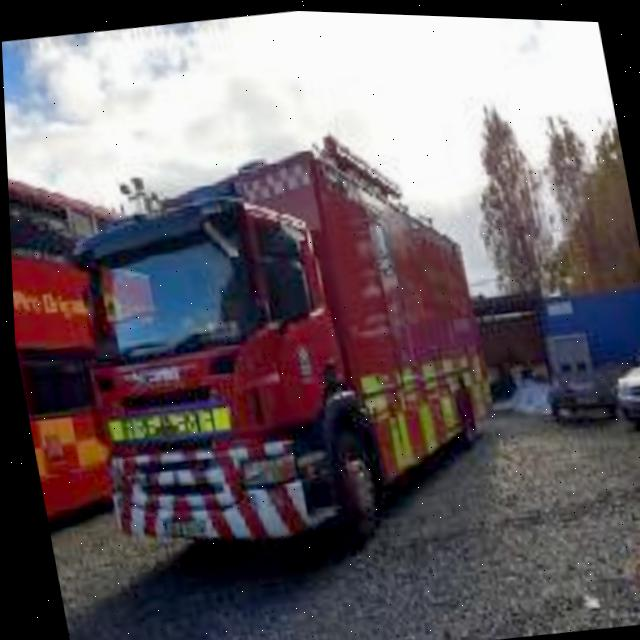emergency: (55, 118, 509, 570)
